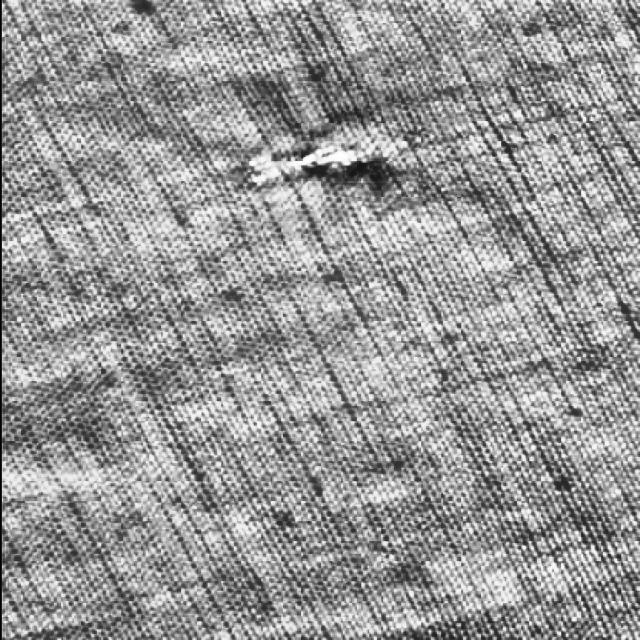hole: (232, 124, 404, 208)
